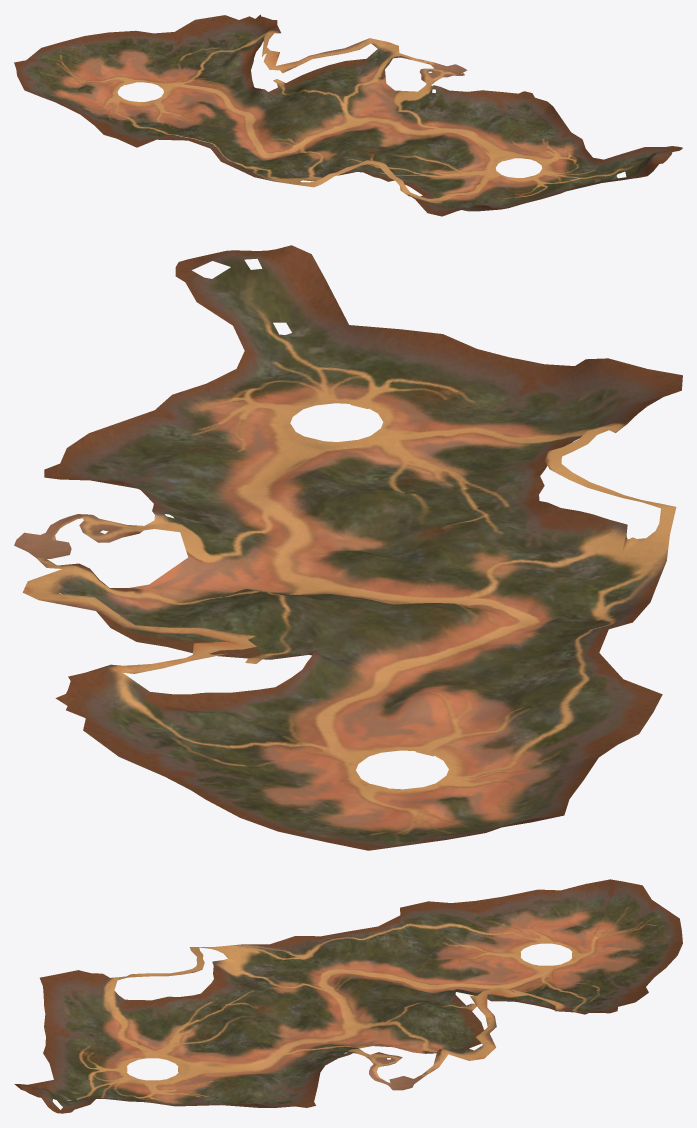
File: map1f.glb
3 views of the same model, one above another, from view 1: azimuth 30°, elevation 25°; view 2: azimuth 150°, elevation 25°; view 3: azimuth 270°, elevation 25° (orthographic). The views are drawn at different scales.
Parts seen in each view (by area): view 1: Object_3; view 2: Object_3; view 3: Object_3.
Part boxes in pixels (x1=…): Object_3: x1=14, y1=14, x2=682, y2=216; Object_3: x1=14, y1=245, x2=682, y2=850; Object_3: x1=14, y1=879, x2=682, y2=1113.
Bounding box in the file's own units: 351 × 22.85 × 416.
1 material, 1 textured.
